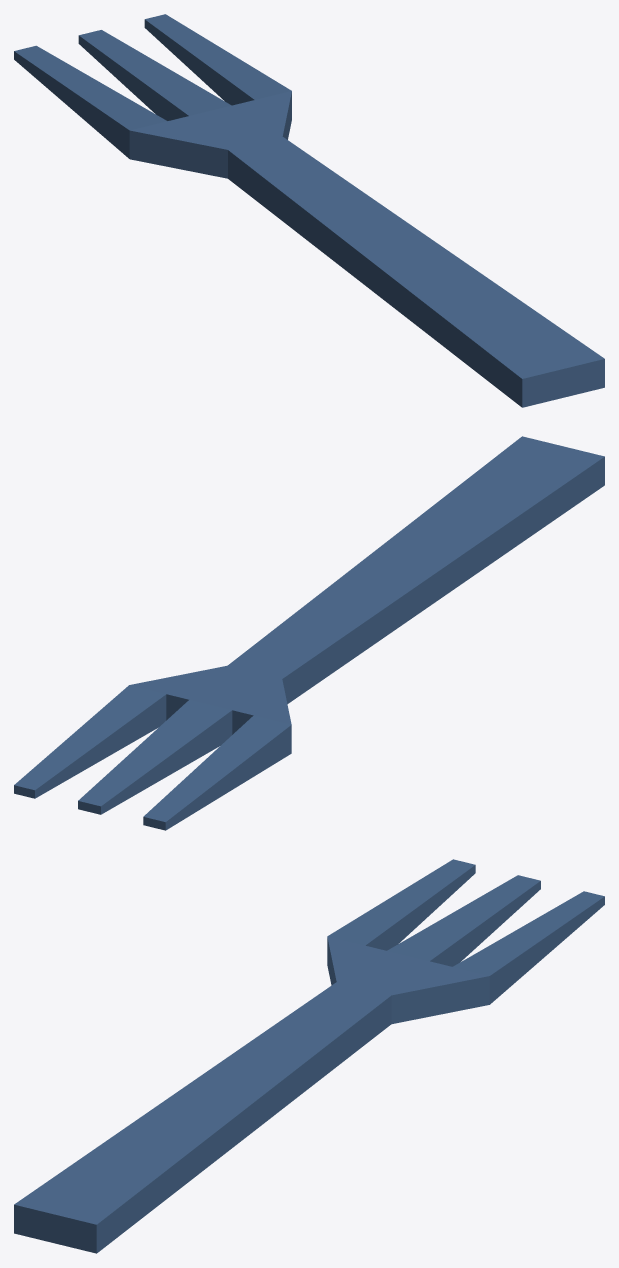
The model's file is Fork.fbx.
3 views of the same model, one above another, from view 1: azimuth 30°, elevation 25°; view 2: azimuth 150°, elevation 25°; view 3: azimuth 330°, elevation 25° (orthographic).
Visible parts, largest first — view 1: Fork; view 2: Fork; view 3: Fork.
Boxes of the visible parts, bbox=[...] form: Fork: bbox=[14, 14, 604, 407]; Fork: bbox=[14, 436, 604, 830]; Fork: bbox=[14, 859, 604, 1253].
Size of the model in its own units: 3.4 by 0.5776 by 17.19.
